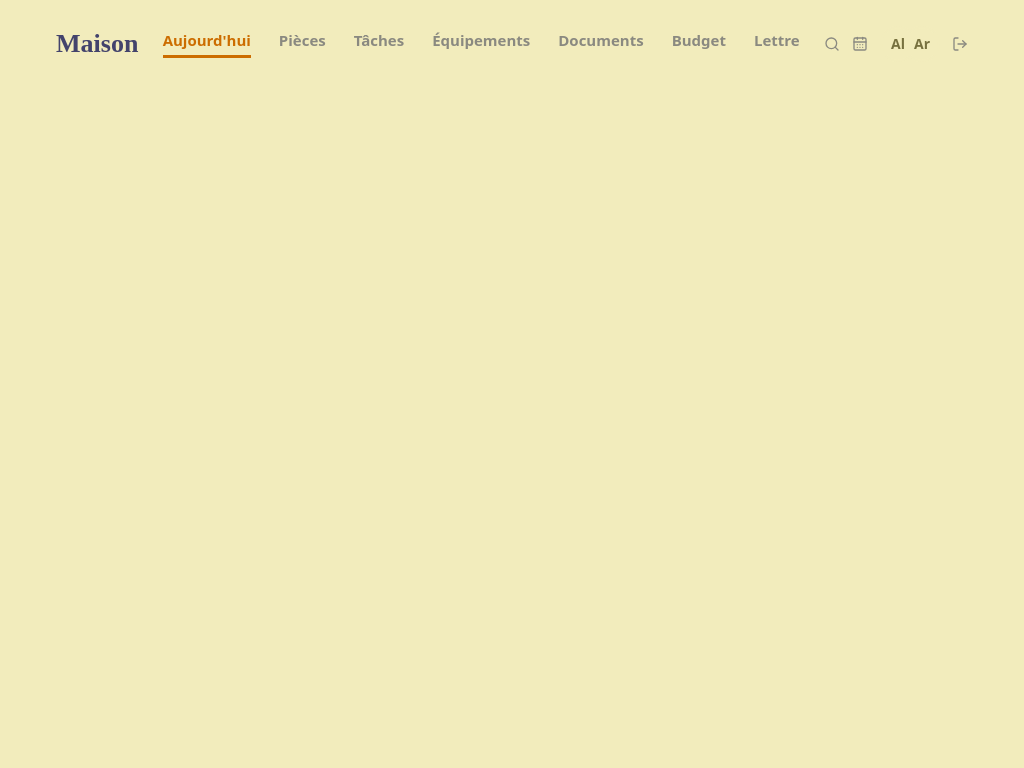
it: « Mon calendrier » montre les deux URLs : publique (Google) et interne (Tailscale)
This screenshot has width=1024, height=768.
Click the button named "Mon calendrier iCal" at point(860, 44), box [852,36,868,52]
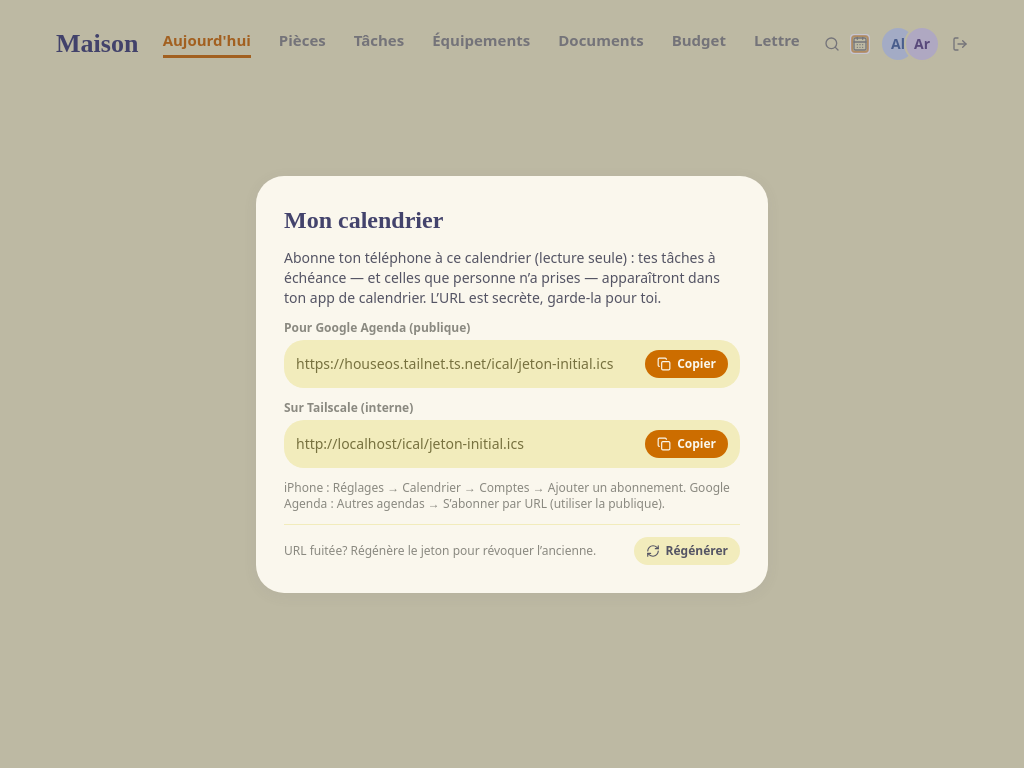
Check: the text "https://houseos.tailnet.ts.net/ical/jeton-initial.ics" is shown, box [296,354,637,374]
Check: the text "Pour Google Agenda (publique)" is shown, box [284,318,470,336]
Check: the text "Sur Tailscale (interne)" is shown, box [284,398,413,416]
